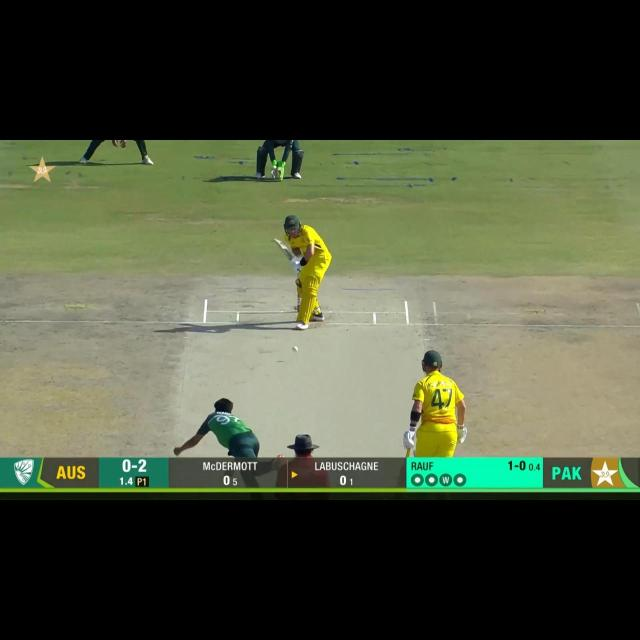bat: (272, 236, 293, 259)
toe: (272, 237, 281, 245)
